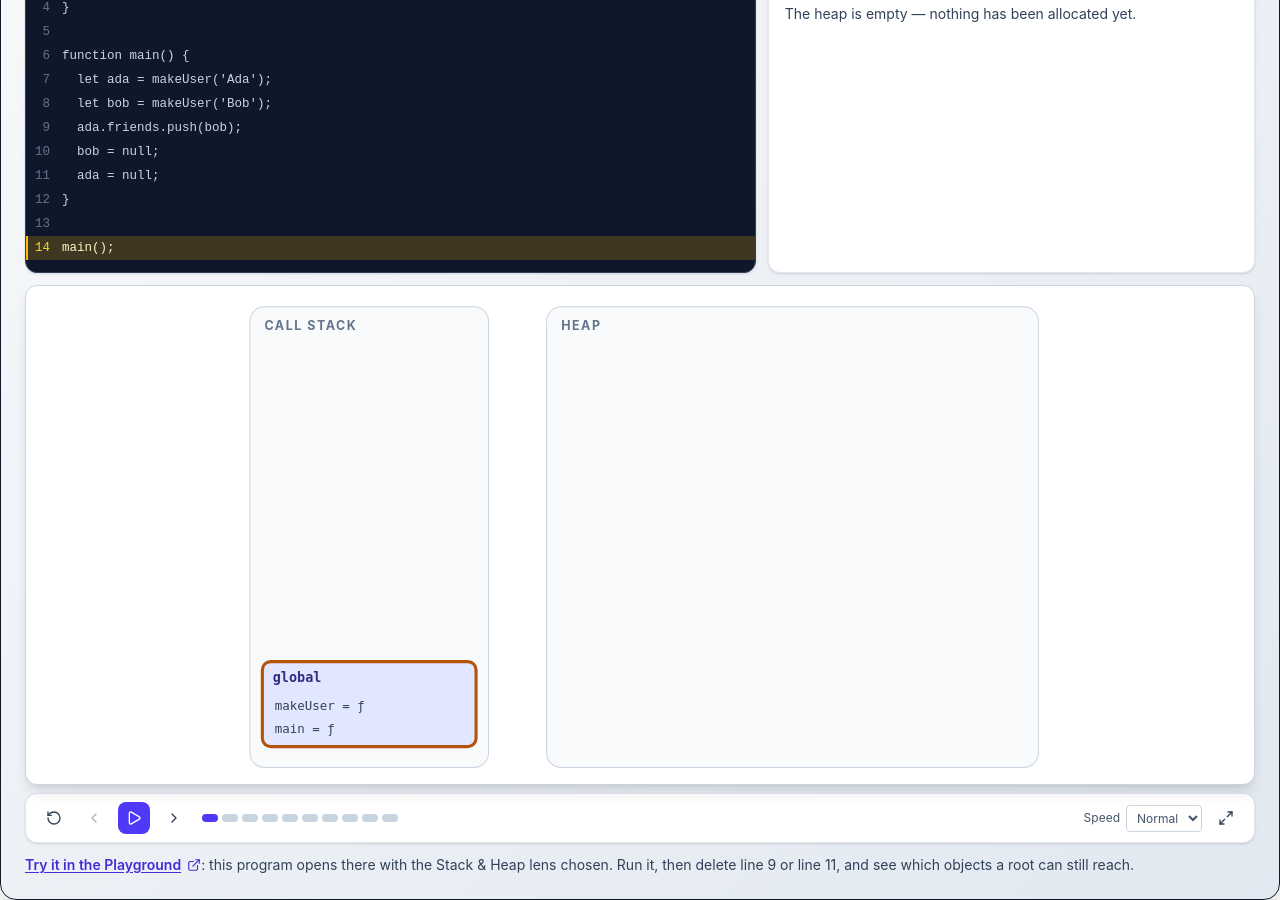
StackHeapStory › starts in 2D on beat 1 and steps forward and back
The image size is (1280, 900).
(page scrolled)
Click the button named "Next beat" at (174, 818), box [158,802,190,834]
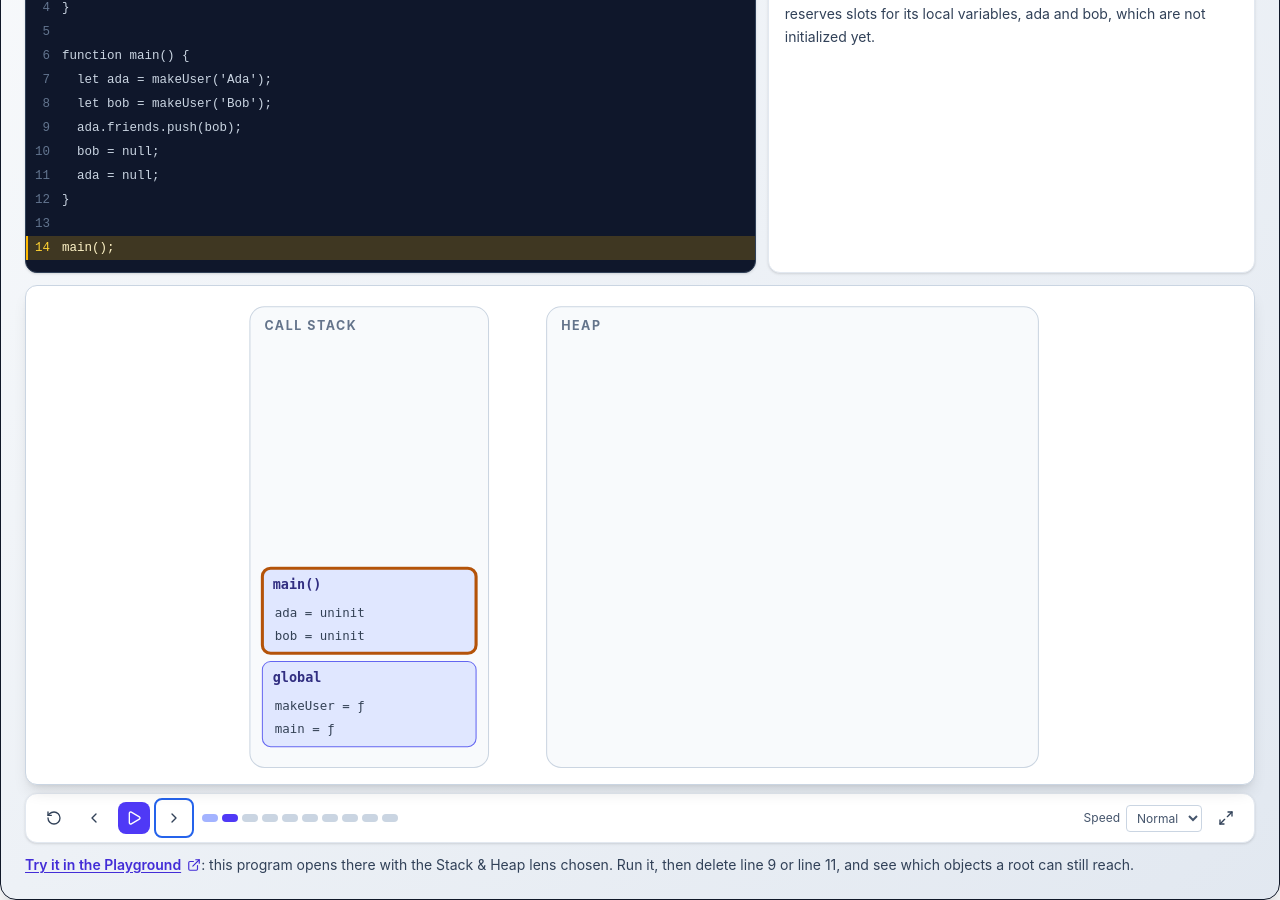
Click the button named "Previous beat" at (94, 818), box [78,802,110,834]
(page scrolled)
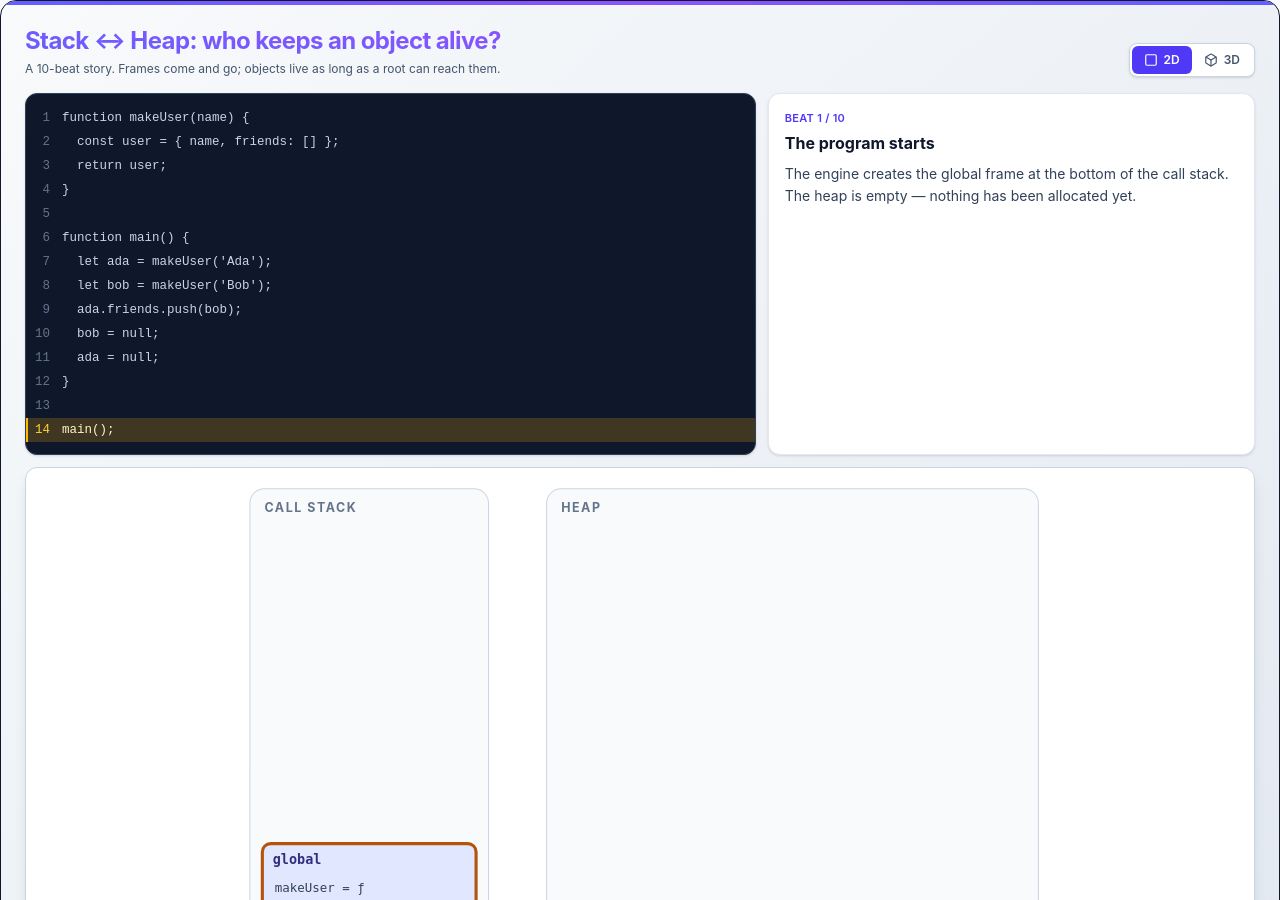
expect the heading "The program starts" is shown: met, box [785,132,935,152]
